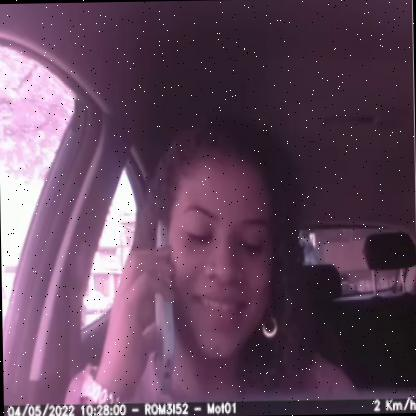phone: (140, 218, 178, 392)
